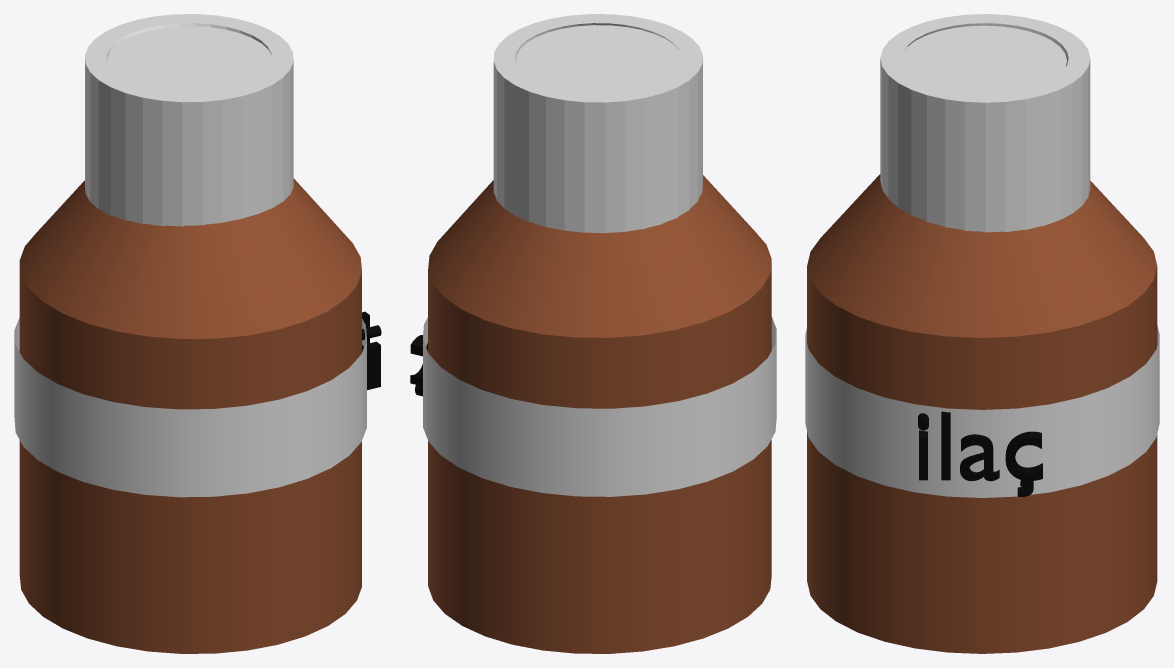
Rendered from ilac (2).fbx.
The picture shows the model from 3 angles, left to right: view 1: azimuth 30°, elevation 25°; view 2: azimuth 150°, elevation 25°; view 3: azimuth 270°, elevation 25°; orthographic projection.
Visible parts, largest first — view 1: Cylinder, Cylinder.001, Cylinder.002, Text; view 2: Cylinder, Cylinder.001, Cylinder.002; view 3: Cylinder, Cylinder.001, Cylinder.002, Text.
Part boxes in pixels (bbox=[...]): Cylinder: bbox=[19, 178, 361, 653]; Cylinder.001: bbox=[85, 14, 293, 226]; Cylinder.002: bbox=[14, 317, 366, 497]; Text: bbox=[362, 311, 381, 390]; Cylinder: bbox=[428, 175, 771, 653]; Cylinder.001: bbox=[493, 14, 702, 233]; Cylinder.002: bbox=[423, 317, 776, 496]; Cylinder: bbox=[807, 174, 1157, 653]; Cylinder.001: bbox=[880, 14, 1090, 232]; Cylinder.002: bbox=[805, 325, 1159, 497]; Text: bbox=[918, 411, 1042, 496].
Size of the model in its own units: 218 by 349 by 214.
